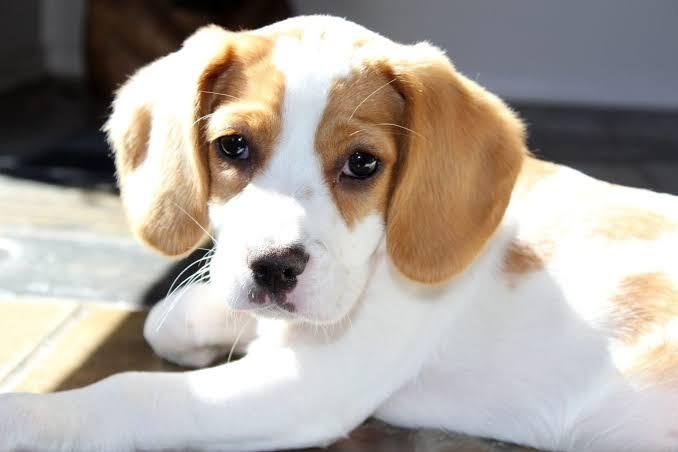puppy-dog: (0, 12, 678, 452)
